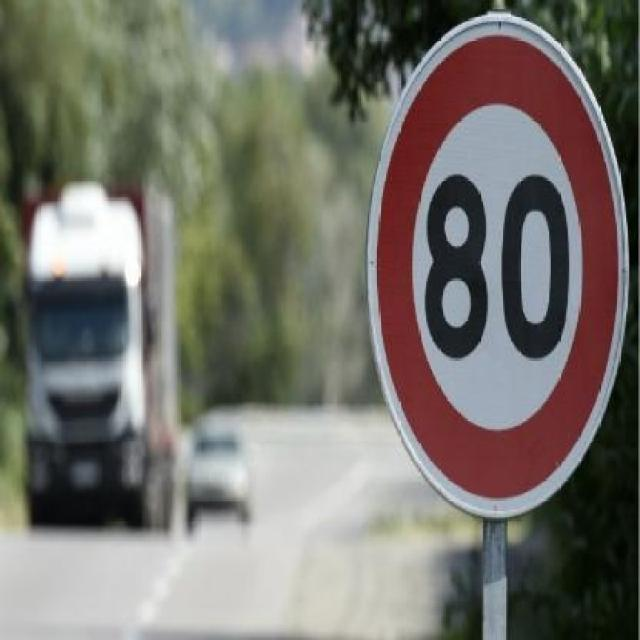forb_speed_over_80: (375, 17, 622, 511)
